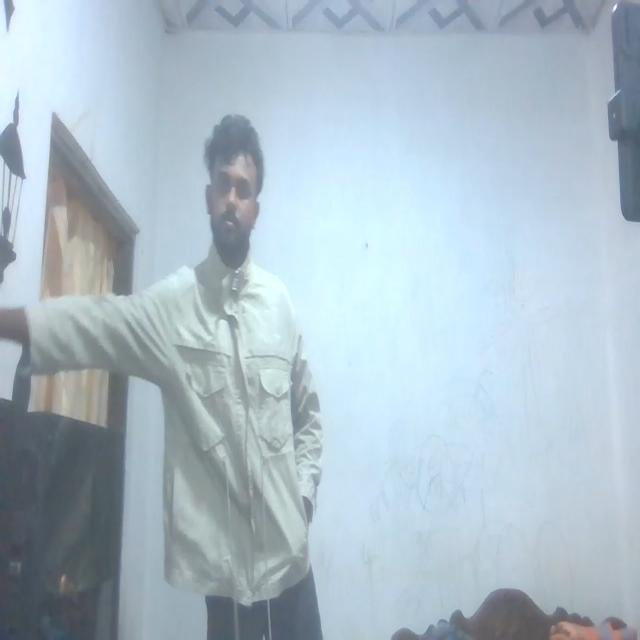Jacket_Wearer: (22, 216, 323, 564)
Person: (137, 106, 326, 640)
